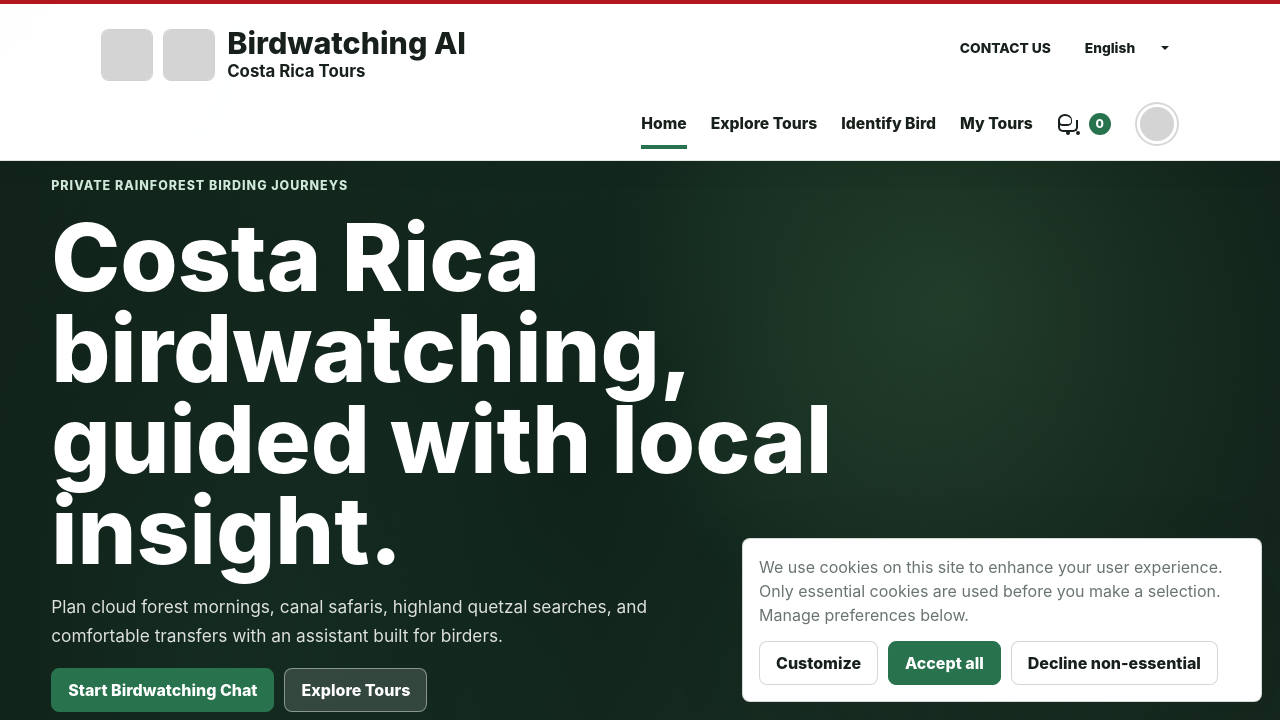
it: App authentication flow › opens the chatbot drawer from the homepage for authenticated users
Click the button "Start Birdwatching Chat".
click(163, 690)  # box left=51, top=668, right=274, bottom=712
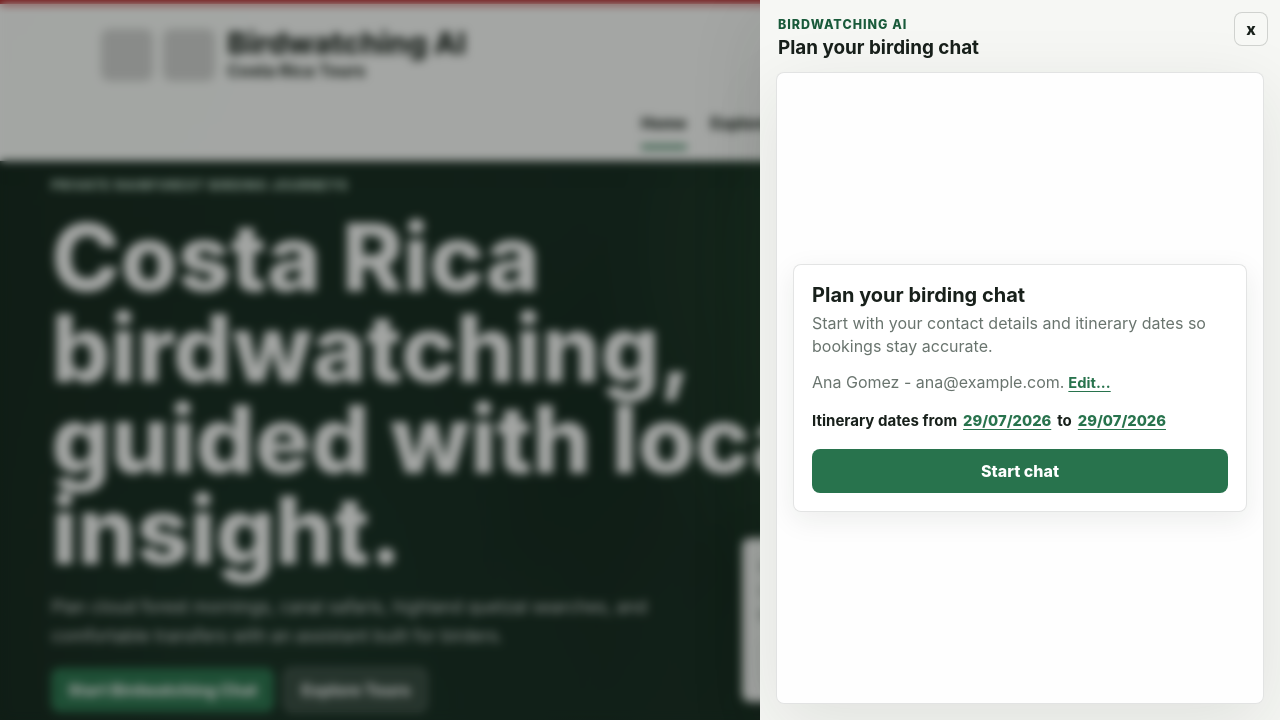
Now the dialog "Plan your birding chat" is shown, box left=760, top=0, right=1279, bottom=719
Now the 1st heading "Plan your birding chat" is shown, box left=778, top=37, right=979, bottom=60
Click the button named "close chat".
click(1251, 29)  # box left=1234, top=12, right=1268, bottom=46
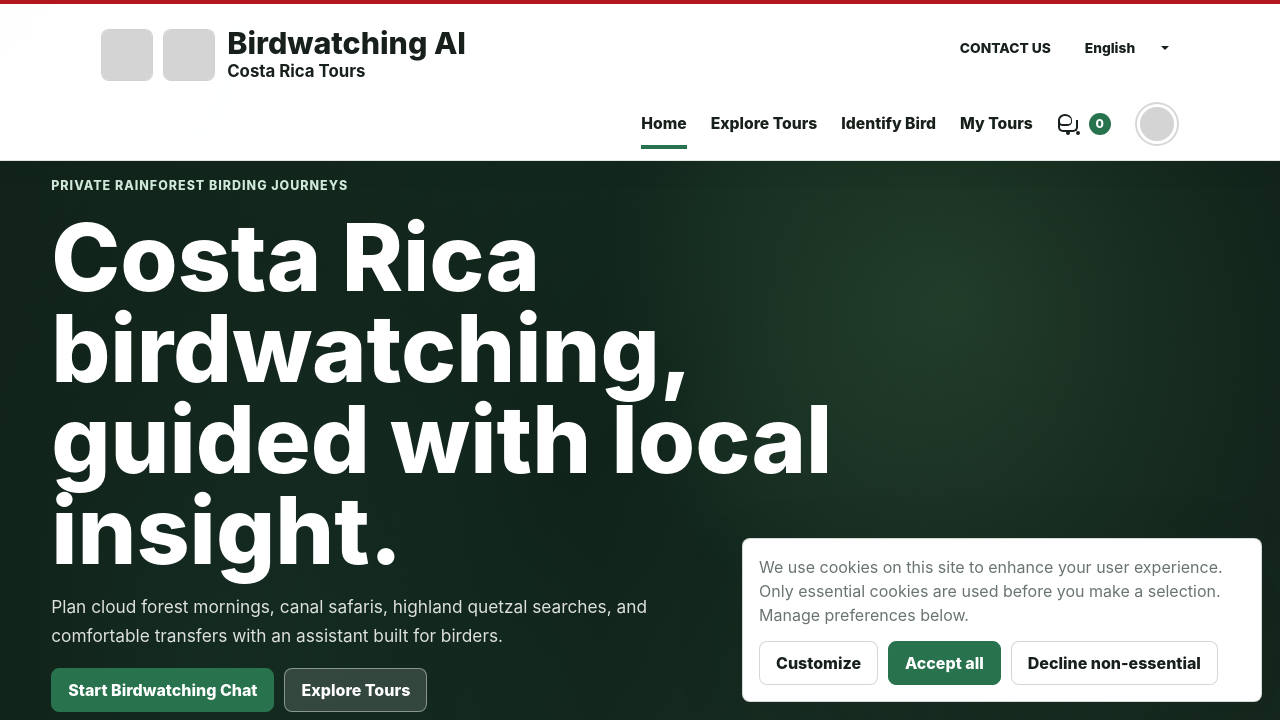
Now the heading "Plan your birding chat" is gone
